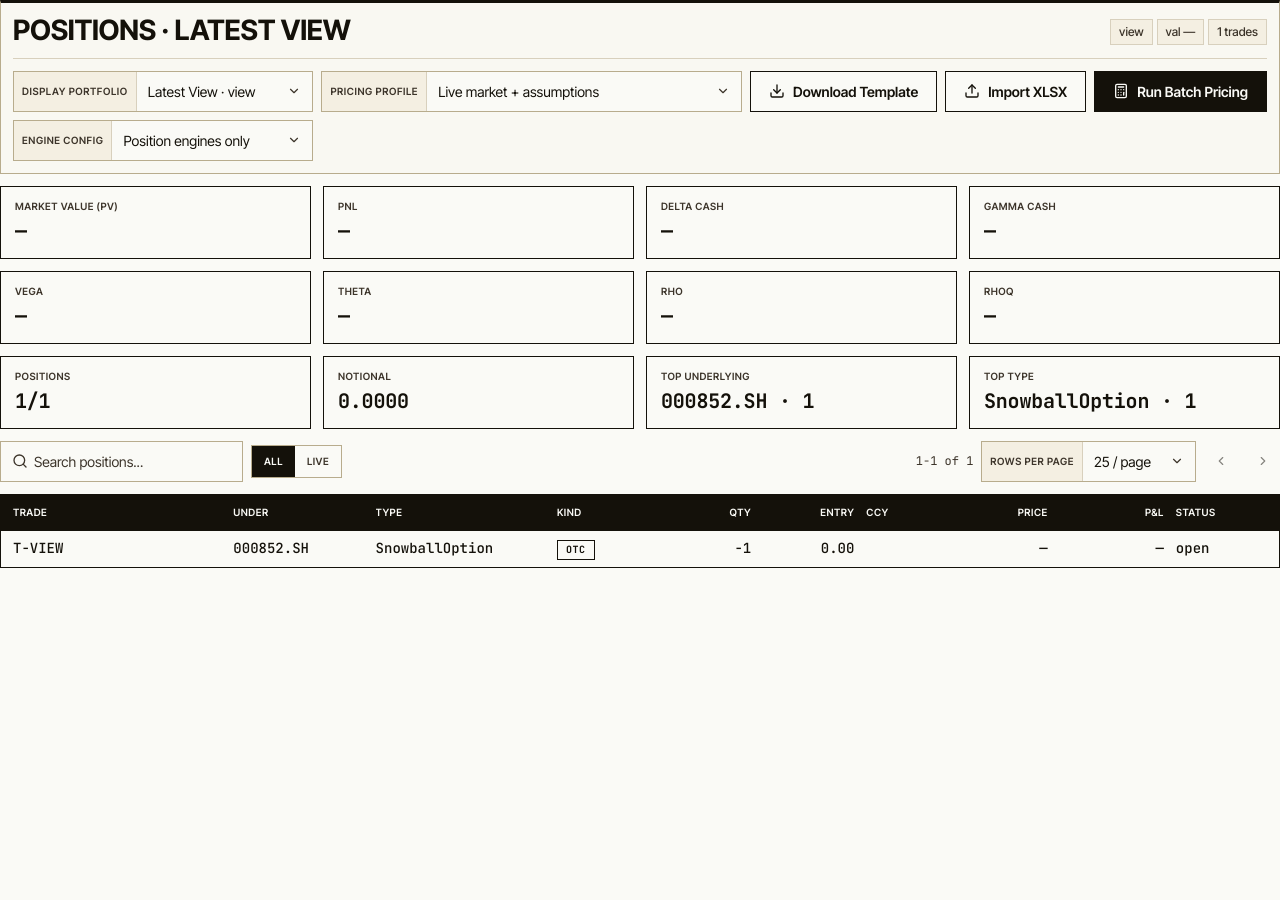
Test: PositionsLive › loads the most recently updated portfolio, including views
The image size is (1280, 900).
Check: the text "T-VIEW" is shown, box [13,539,63,557]
Check: the label labelled "Display portfolio" holds "2", box [14,72,137,111]
Step 1. Click the button "Import XLSX" → (1016, 91), box [945,71,1086,112]
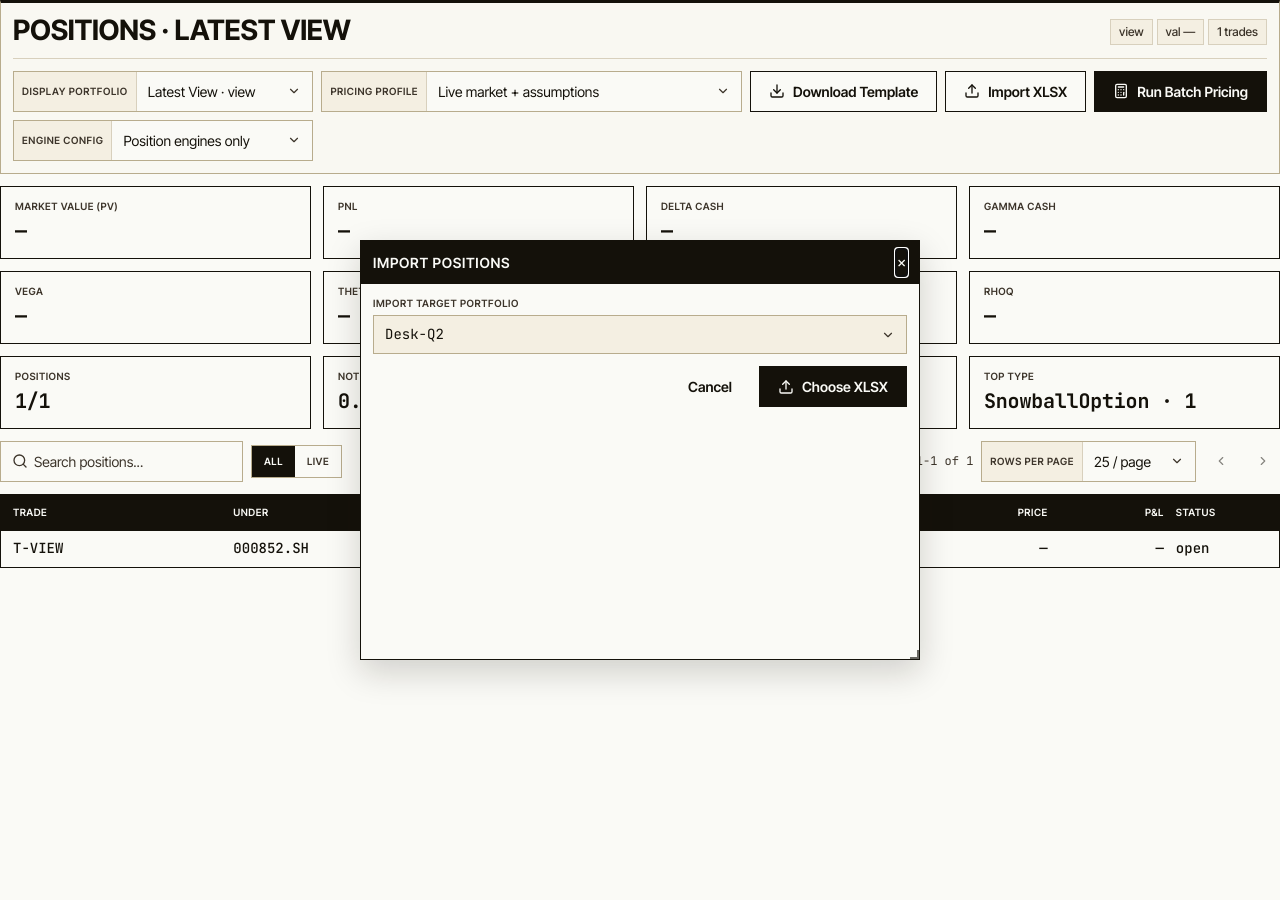
Check: the dropdown labelled "Import target portfolio" shows "Desk-Q2", box [372,295,919,313]
